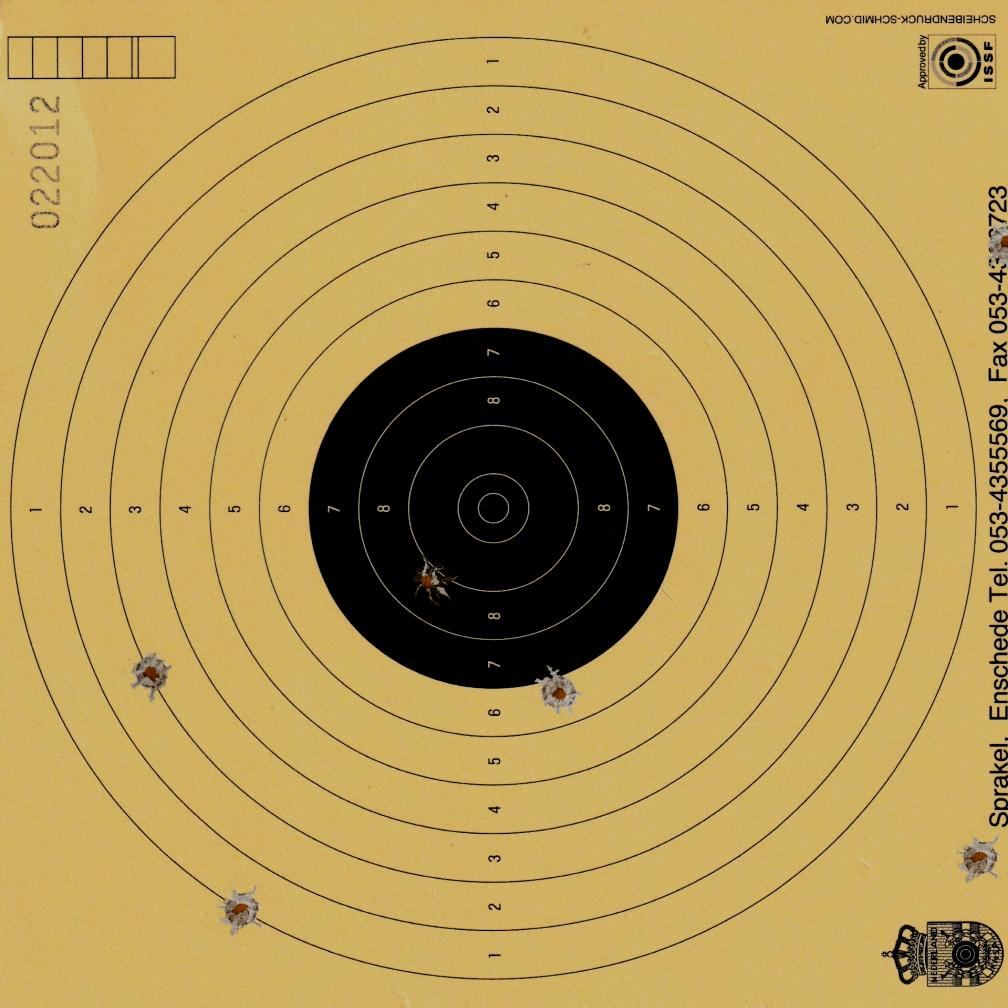0: (956, 831, 1003, 887), (984, 219, 1008, 267)
1: (214, 882, 263, 938)
3: (127, 651, 177, 701)
7: (534, 663, 583, 716)
9: (408, 549, 461, 608)
Target: (5, 33, 984, 985)
black_contour: (306, 327, 679, 691)
